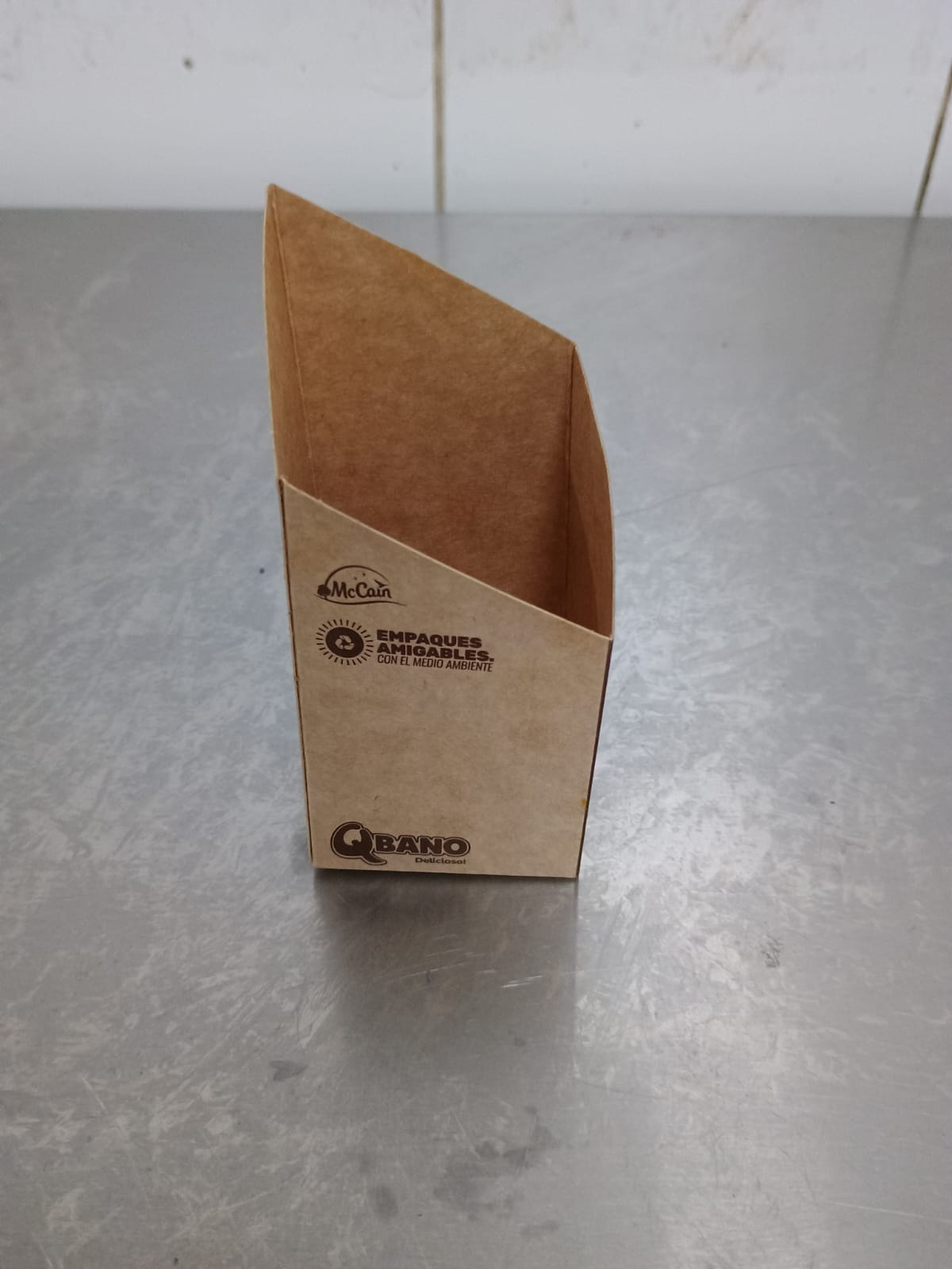Carton: (257, 186, 614, 885)
